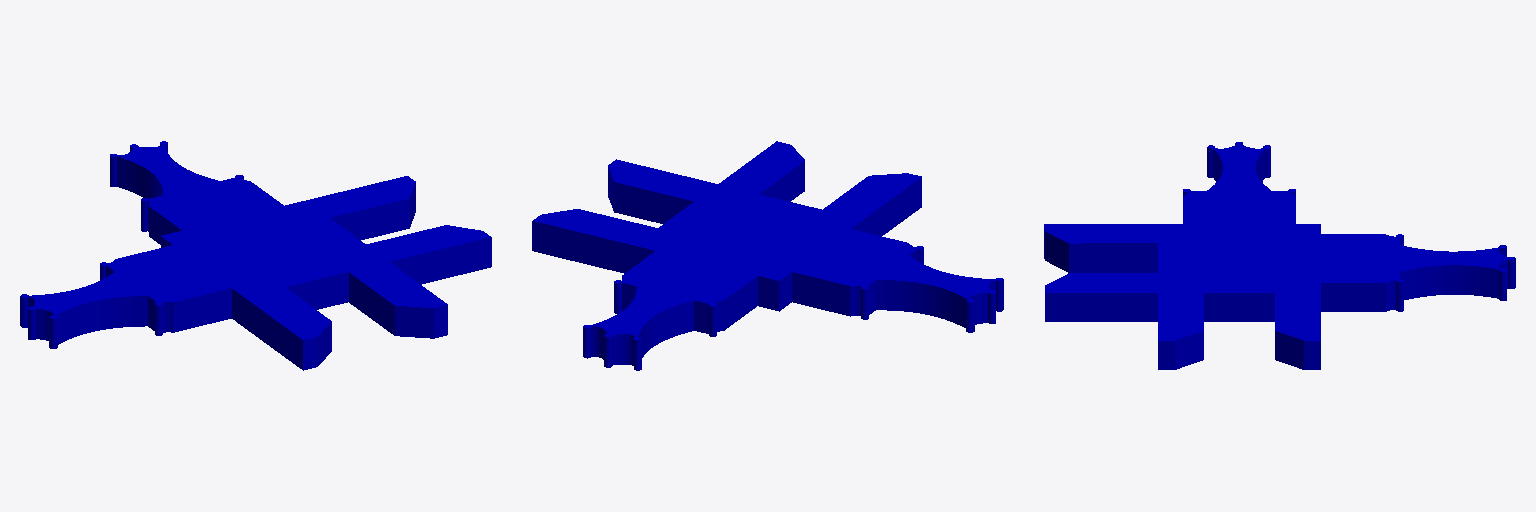
URDF robot description (block):
<?xml version="1.0" ?>

<robot name="block">
  <link name="baseLink">
    <contact>
      <lateral_friction value="0.1"/>
      <rolling_friction value="0."/>
	<restitution value="0" />
    </contact>
    <inertial>
      <origin rpy="0 0 0" xyz="0 0 0"/>
       <mass value="1000000"/>
       <inertia ixx="0" ixy="0" ixz="0" iyy="0" iyz="0" izz="0"/>
    </inertial>
    <visual>
      <origin rpy="0 0 0" xyz="0 0 0"/>
      <geometry>
		<mesh filename="./square-block.obj" scale="0.1 0.1 0.1"/>
      </geometry>
       <material name="green">
        <color rgba="0 0 0.8 1"/>
      </material>
    </visual>
    <collision>
      <origin rpy="0 0 0" xyz="0 0 0"/>
      <geometry>
	 	<mesh filename="./square-block.obj" scale="0.1 0.1 0.1"/>
      </geometry>
    </collision>
  </link>

  <link name="socket_right">

    <contact>
      <lateral_friction value="0.1"/>
      <rolling_friction value="0."/>
  <restitution value="0" />
    </contact>
    <inertial>
      <origin rpy="0 0 0" xyz="0 0 0"/>
       <mass value="0."/>
       <inertia ixx="0" ixy="0" ixz="0" iyy="0" iyz="0" izz="0"/>
    </inertial>
    <visual>
      <origin rpy="0 0 -1.570" xyz="0 0 0"/>
      <geometry>
    <mesh filename="./socket_1.obj" scale="1 1 1"/>
      </geometry>
       <material name="green">
        <color rgba="0 0 0.8 1"/>
      </material>
    </visual>
    <collision concave="yes">
      <origin rpy="0 0 -1.570" xyz="0 0 0"/>
      <geometry>
    <mesh filename="./socket_1.obj" scale="1 1 1"/>
      </geometry>
    </collision>
  </link>

  <joint name="base_to_socket_right" type="fixed">
       <parent link="baseLink"/>
       <child link="socket_right"/>
       <origin xyz="12 0 0"/>
  </joint>


  <link name="socket_down">

    <contact>
      <lateral_friction value="0.1"/>
      <rolling_friction value="0."/>
  <restitution value="0" />
    </contact>
    <inertial>
      <origin rpy="0 0 0" xyz="0 0 0"/>
       <mass value="0."/>
       <inertia ixx="0" ixy="0" ixz="0" iyy="0" iyz="0" izz="0"/>
    </inertial>
    <visual>
      <origin rpy="0 0 -3.14" xyz="0 0 0"/>
      <geometry>
    <mesh filename="./socket_1.obj" scale="1 1 1"/>
      </geometry>
       <material name="green">
        <color rgba="0 0 0.8 1"/>
      </material>
    </visual>
    <collision concave="yes">
      <origin rpy="0 0 -3.14" xyz="0 0 0"/>
      <geometry>
    <mesh filename="./socket_1.obj" scale="1 1 1"/>
      </geometry>
    </collision>
  </link>

  <joint name="base_to_socket_down" type="fixed">
       <parent link="baseLink"/>
       <child link="socket_down"/>
       <origin xyz="0 -12 0"/>
  </joint>

  <link name="peg_up">

    <contact>
      <lateral_friction value="0.1"/>
      <rolling_friction value="0."/>
  <restitution value="0" />
    </contact>
    <inertial>
      <origin rpy="0 0 0" xyz="0 0 0"/>
       <mass value="0."/>
       <inertia ixx="0" ixy="0" ixz="0" iyy="0" iyz="0" izz="0"/>
    </inertial>
    <visual>
      <origin rpy="0 0 -3.14" xyz="0 0 0"/>
      <geometry>
    <mesh filename="./peg_1.obj" scale="1 1 1"/>
      </geometry>
       <material name="green">
        <color rgba="0 0 0.8 1"/>
      </material>
    </visual>
    <collision >
      <origin rpy="0 0 -3.14" xyz="0 0 0"/>
      <geometry>
    <mesh filename="./peg_1.obj" scale="1 1 1"/>
      </geometry>
    </collision>
  </link>

  <joint name="base_to_peg_up" type="fixed">
       <parent link="baseLink"/>
       <child link="peg_up"/>
       <origin xyz="0 10 0"/>
  </joint>

  <link name="peg_left">

    <contact>
      <lateral_friction value="0.1"/>
      <rolling_friction value="0."/>
  <restitution value="0" />
    </contact>
    <inertial>
      <origin rpy="0 0 0" xyz="0 0 0"/>
       <mass value="0."/>
       <inertia ixx="0" ixy="0" ixz="0" iyy="0" iyz="0" izz="0"/>
    </inertial>
    <visual>
      <origin rpy="0 0 -1.57" xyz="0 0 0"/>
      <geometry>
    <mesh filename="./peg_1.obj" scale="1 1 1"/>
      </geometry>
       <material name="green">
        <color rgba="0 0 0.8 1"/>
      </material>
    </visual>
    <collision >
      <origin rpy="0 0 -1.57" xyz="0 0 0"/>
      <geometry>
    <mesh filename="./peg_1.obj" scale="1 1 1"/>
      </geometry>
    </collision>
  </link>

  <joint name="base_to_peg_left" type="fixed">
       <parent link="baseLink"/>
       <child link="peg_left"/>
       <origin xyz="-10 0 0"/>
  </joint>

</robot>

--- Facts derived from the render (not from the file) ---
3 views of the same robot in one strip: view 1: azimuth 30°, elevation 25°; view 2: azimuth 150°, elevation 25°; view 3: azimuth 270°, elevation 25° (orthographic).
Model block with 5 links and 4 joints (4 fixed), rooted at baseLink, posed every joint at zero.
Links seen in each view (by area): view 1: baseLink, peg_left, socket_down, socket_right, peg_up; view 2: baseLink, peg_left, peg_up, socket_right, socket_down; view 3: baseLink, peg_up, socket_down, socket_right, peg_left.
Link boxes in pixels (<box>): baseLink: <box>161,201,388,320</box>; peg_left: <box>20,245,231,348</box>; socket_down: <box>236,262,447,370</box>; socket_right: <box>293,176,491,284</box>; peg_up: <box>110,141,283,244</box>; baseLink: <box>634,185,862,311</box>; peg_left: <box>792,229,1003,332</box>; peg_up: <box>583,251,757,370</box>; socket_right: <box>532,159,731,273</box>; socket_down: <box>718,141,921,235</box>; baseLink: <box>1158,224,1320,321</box>; peg_up: <box>1321,234,1515,311</box>; socket_down: <box>1044,224,1174,321</box>; socket_right: <box>1158,286,1320,369</box>; peg_left: <box>1183,142,1295,223</box>.
Bounding box of the posed robot: 29 × 29.01 × 2 m (x, y, z).
5 mesh visuals loaded from 3 distinct referenced files (3 OBJ).